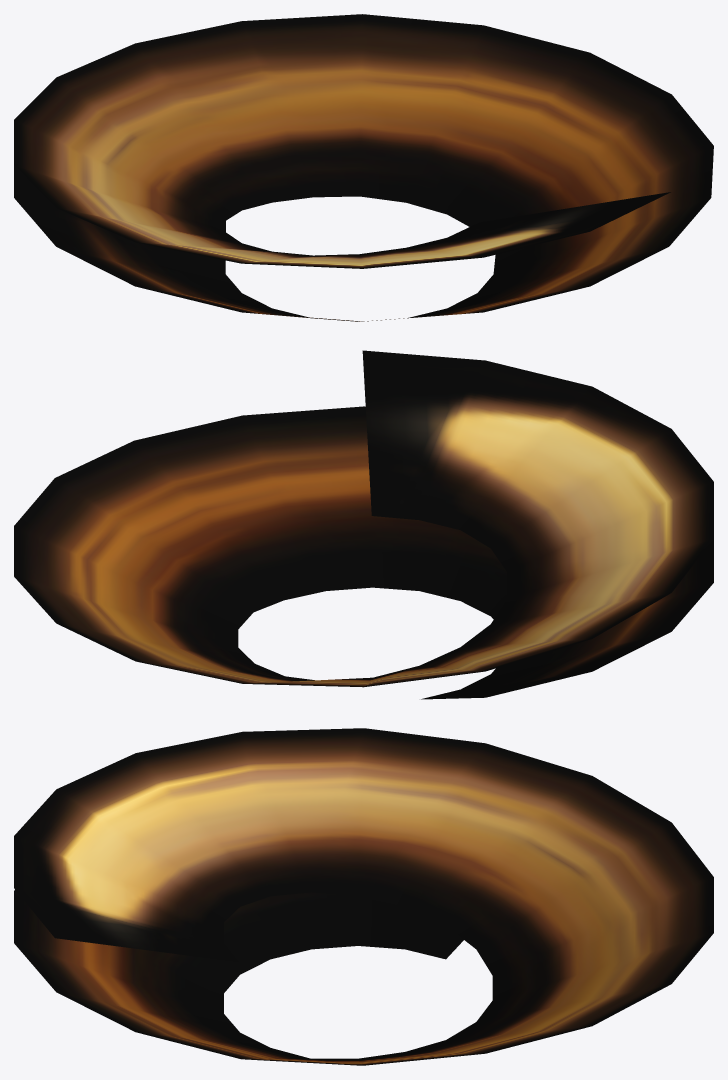
The model's file is eff_knight_whirlwind.FBX.
The picture shows the model from 3 angles, top to bottom: view 1: azimuth 30°, elevation 25°; view 2: azimuth 150°, elevation 25°; view 3: azimuth 270°, elevation 25°; orthographic projection.
Parts seen in each view (by area): view 1: eff_Knight_whirlwind; view 2: eff_Knight_whirlwind; view 3: eff_Knight_whirlwind.
Part boxes in pixels (x1,y1,x2,y2): eff_Knight_whirlwind: (14, 14, 713, 321); eff_Knight_whirlwind: (14, 350, 713, 699); eff_Knight_whirlwind: (14, 728, 713, 1065).
Bounding box in the file's own units: 50.29 × 11.23 × 49.36.
1 material, 1 textured.
